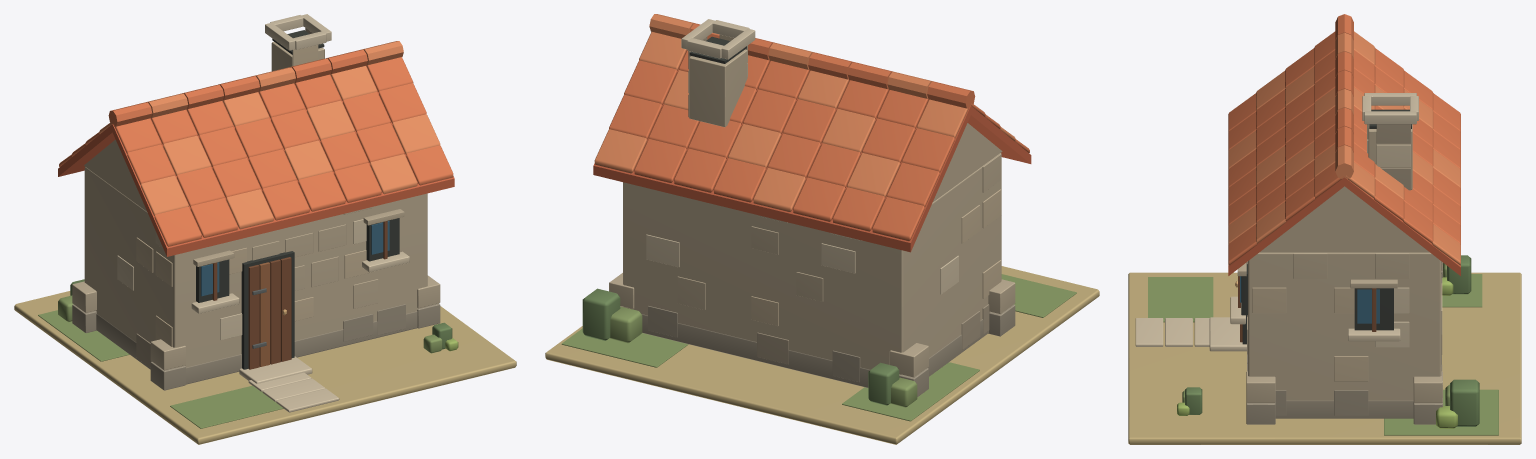
Rendered from house_cottage_long.glb.
3 views of the same model, side by side, from view 1: azimuth 30°, elevation 25°; view 2: azimuth 150°, elevation 25°; view 3: azimuth 270°, elevation 25° (orthographic). The views are drawn at different scales.
Visible parts, largest first — view 1: house_cottage_long; view 2: house_cottage_long; view 3: house_cottage_long.
Part boxes in pixels (bbox=[...]): house_cottage_long: bbox=[14, 14, 516, 444]; house_cottage_long: bbox=[545, 14, 1099, 444]; house_cottage_long: bbox=[1128, 14, 1521, 444].
Size of the model in its own units: 2.4 by 1.96 by 2.4.
